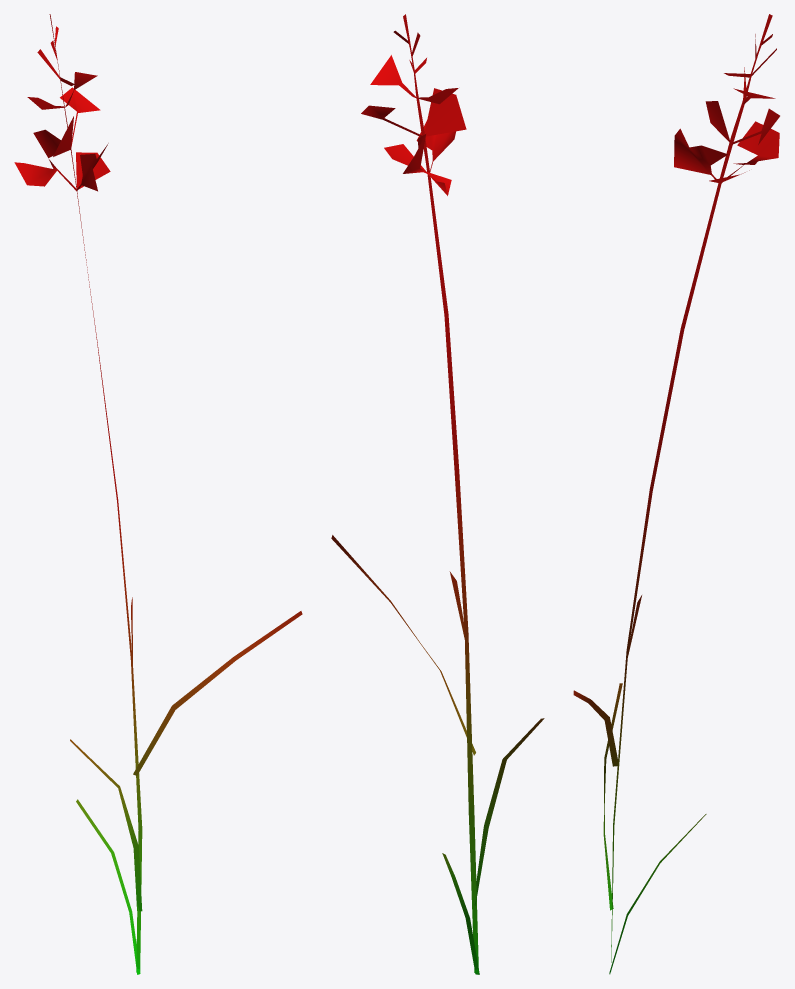
File: Tundra Grass_LOD3_Var11_wk2oaeyqx.fbx
3 renders of one model, left to right at view 1: azimuth 30°, elevation 25°; view 2: azimuth 150°, elevation 25°; view 3: azimuth 270°, elevation 25°, orthographic. The views are drawn at different scales.
Visible parts, largest first — view 1: _br9o_Var11_LOD3; view 2: _br9o_Var11_LOD3; view 3: _br9o_Var11_LOD3.
Boxes of the visible parts, x1=… form: _br9o_Var11_LOD3: x1=14, y1=14, x2=302, y2=974; _br9o_Var11_LOD3: x1=331, y1=14, x2=544, y2=974; _br9o_Var11_LOD3: x1=573, y1=14, x2=779, y2=974.
Size of the model in its own units: 13.51 by 55.66 by 10.95.
